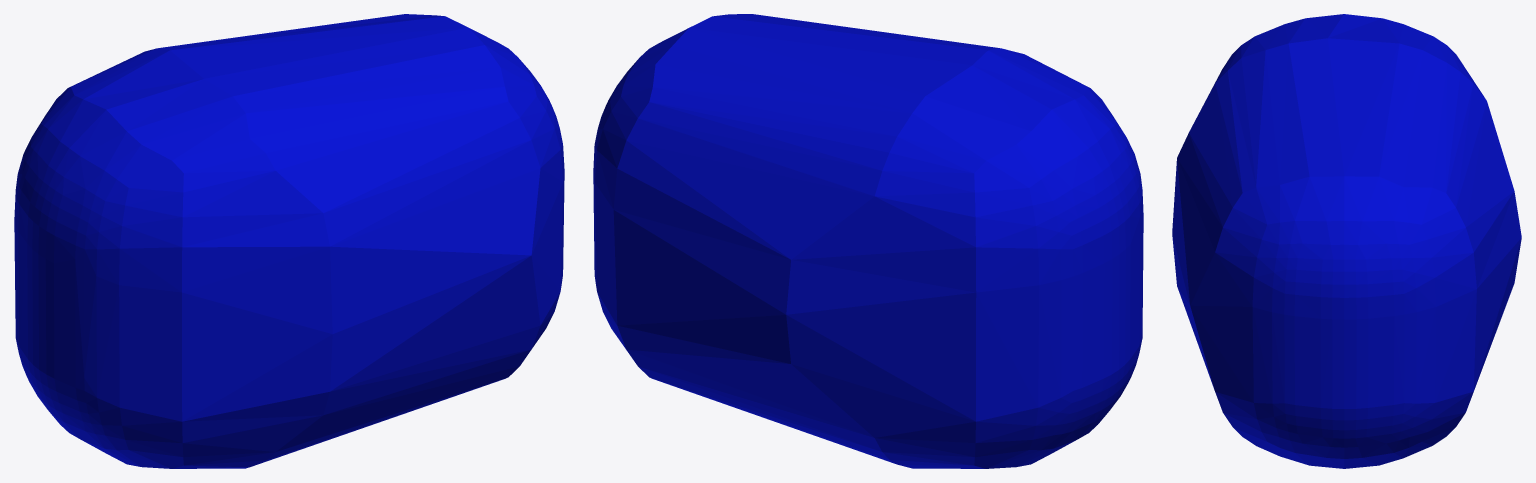
The model's file is COL_hollie_real_018_collision.dae.
The picture shows the model from 3 angles, left to right: view 1: azimuth 30°, elevation 25°; view 2: azimuth 150°, elevation 25°; view 3: azimuth 270°, elevation 25°; orthographic projection. The views are drawn at different scales.
Visible parts, largest first — view 1: COL_hollie_real_018_collision; view 2: COL_hollie_real_018_collision; view 3: COL_hollie_real_018_collision.
Part boxes in pixels (left/top/right/bottom): COL_hollie_real_018_collision: left=14, top=14, right=564, bottom=468; COL_hollie_real_018_collision: left=593, top=14, right=1143, bottom=468; COL_hollie_real_018_collision: left=1172, top=14, right=1521, bottom=468.
Size of the model in its own units: 0.0835 by 0.0568 by 0.0596.
